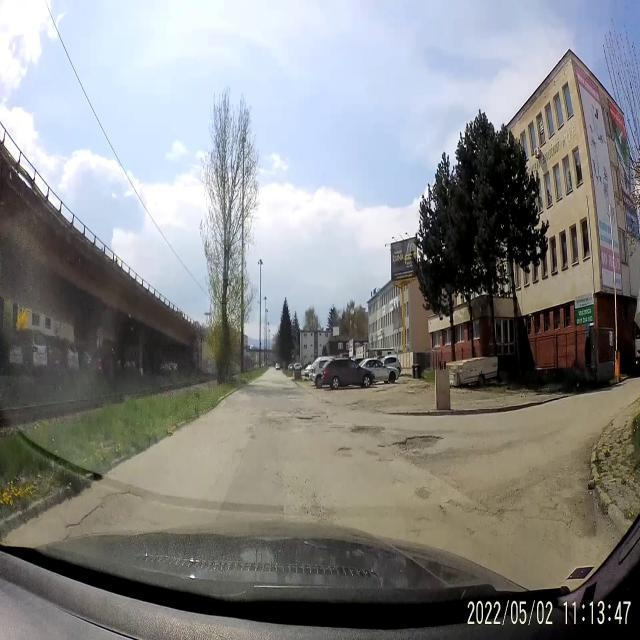Pothole: (394, 428, 444, 457), (349, 421, 386, 441), (294, 409, 324, 424), (336, 442, 354, 458)
